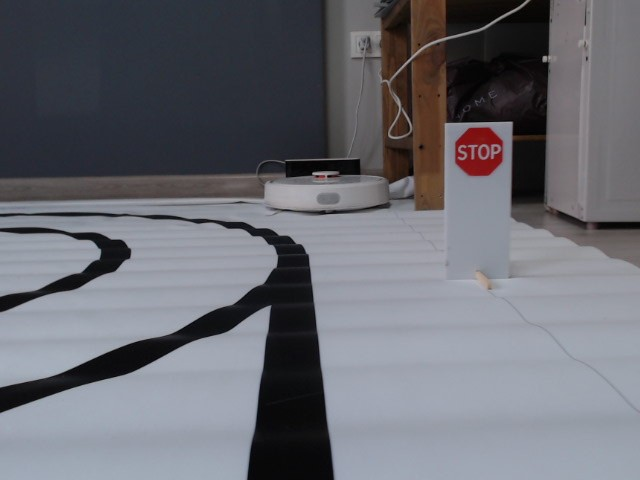Stop: (452, 126, 505, 178)
